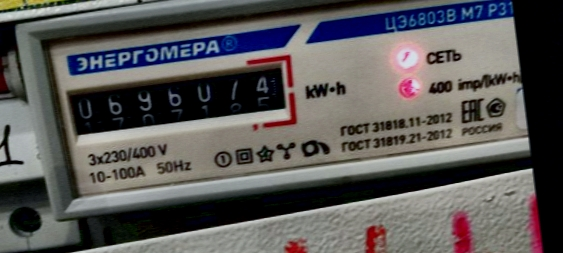0: (72, 93, 94, 119), (193, 76, 212, 103)
4: (251, 69, 269, 93)
5: (255, 94, 273, 110)
6: (164, 80, 185, 107), (104, 89, 124, 115)
7: (223, 73, 243, 100)
9: (134, 85, 153, 112)
screen: (54, 49, 301, 147)
